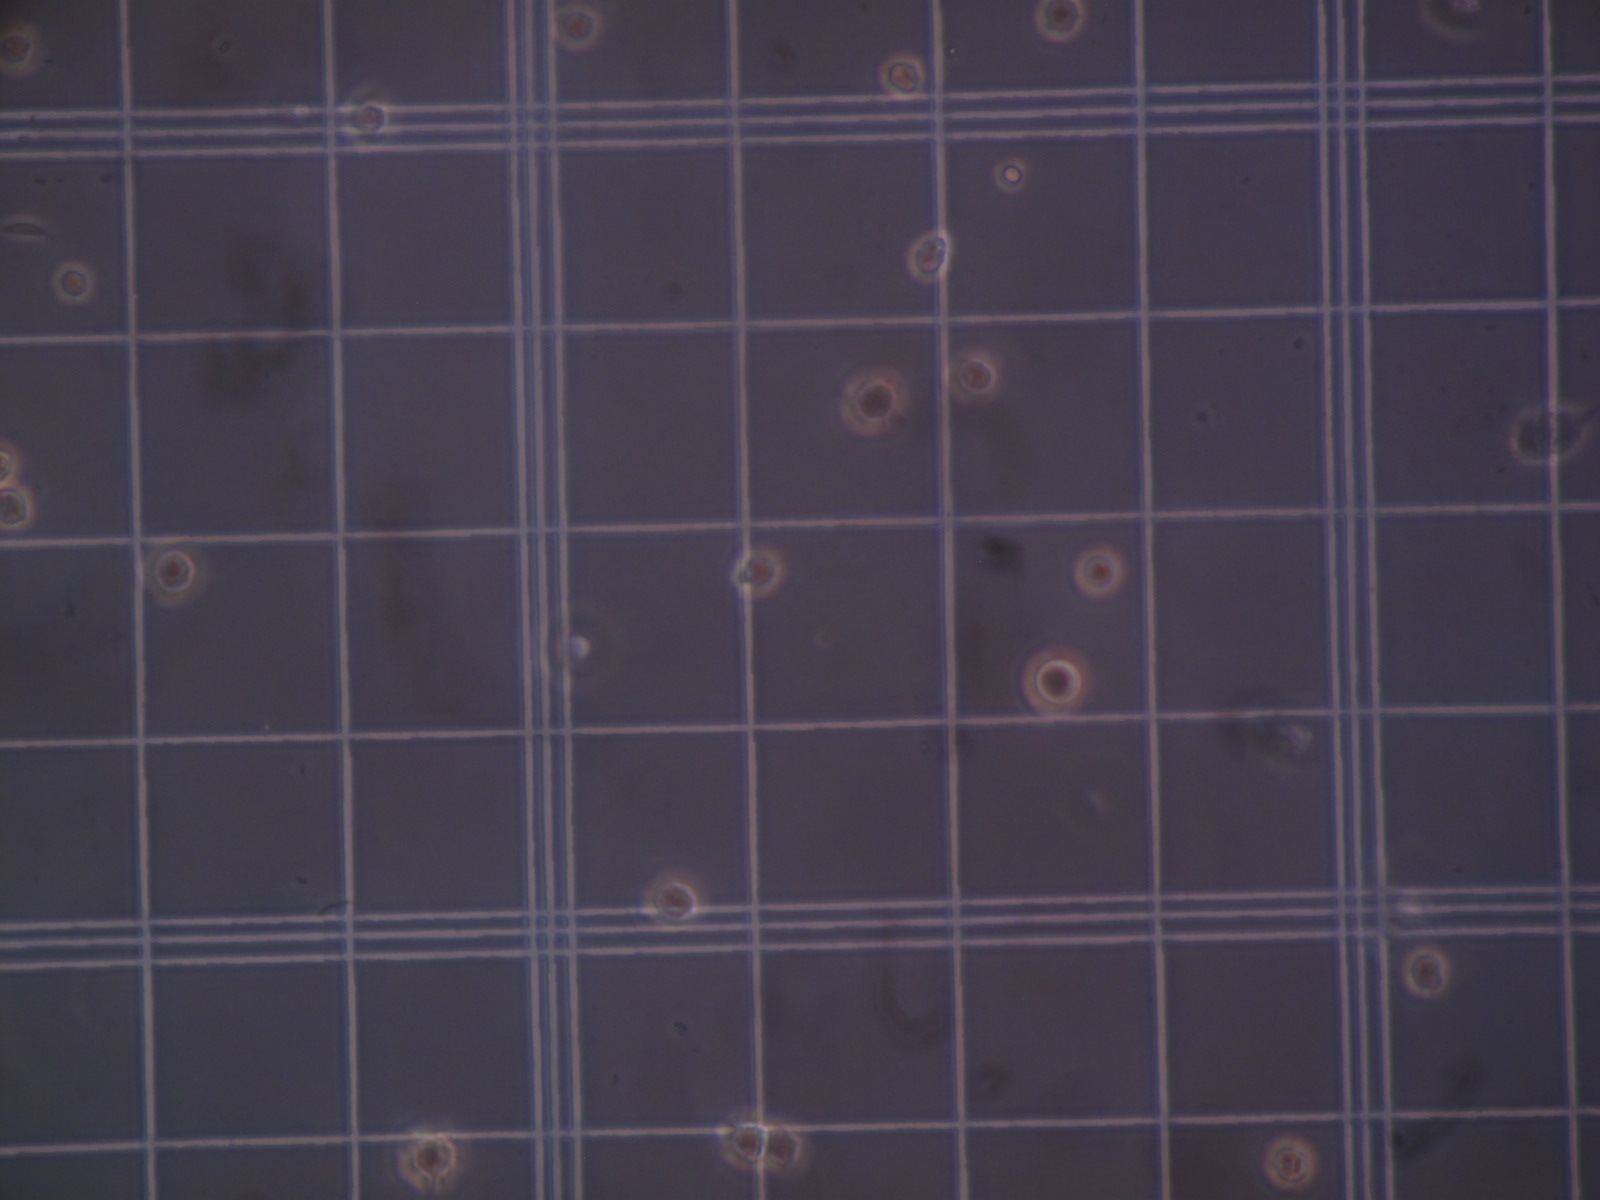hemo: (529, 605, 605, 693), (1508, 400, 1591, 466), (1022, 647, 1090, 713), (839, 368, 905, 436), (144, 541, 207, 606), (641, 868, 704, 933), (399, 1129, 460, 1191), (340, 84, 393, 153), (946, 348, 1003, 405), (1417, 1, 1490, 42), (1264, 1136, 1317, 1190), (731, 547, 784, 597), (1073, 546, 1123, 597), (765, 1118, 809, 1175), (721, 1118, 769, 1170), (906, 229, 952, 282), (1402, 945, 1449, 998), (553, 4, 601, 50), (878, 54, 925, 101), (1, 23, 42, 76), (1036, 1, 1085, 42), (52, 260, 94, 304), (1, 487, 34, 531), (993, 158, 1028, 193), (1, 437, 21, 489)
